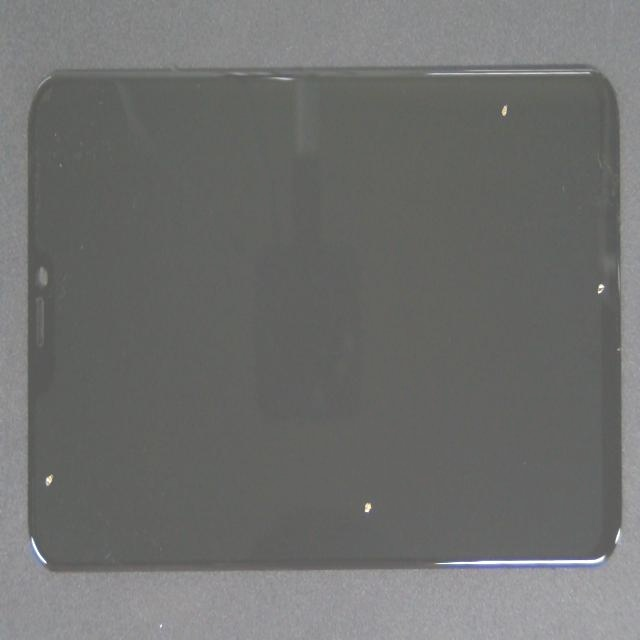stain: (152, 265, 548, 640), (266, 143, 640, 469), (222, 64, 640, 181), (41, 198, 72, 640)
